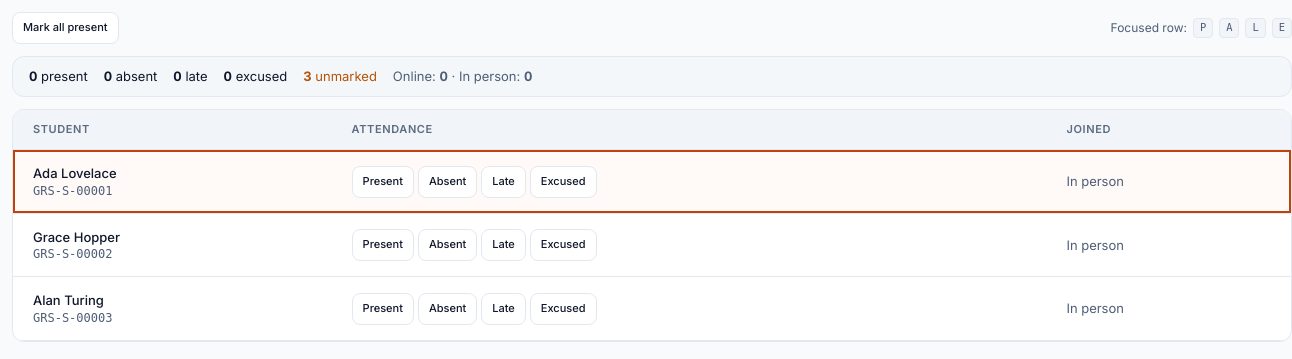
Test: RegisterEditor › clicking a status button also marks the row (the mouse alternative)
The image size is (1292, 359).
Click the radio button labelled "Excused" in the row of "Ada Lovelace": (563, 182) [530,166,596,198]
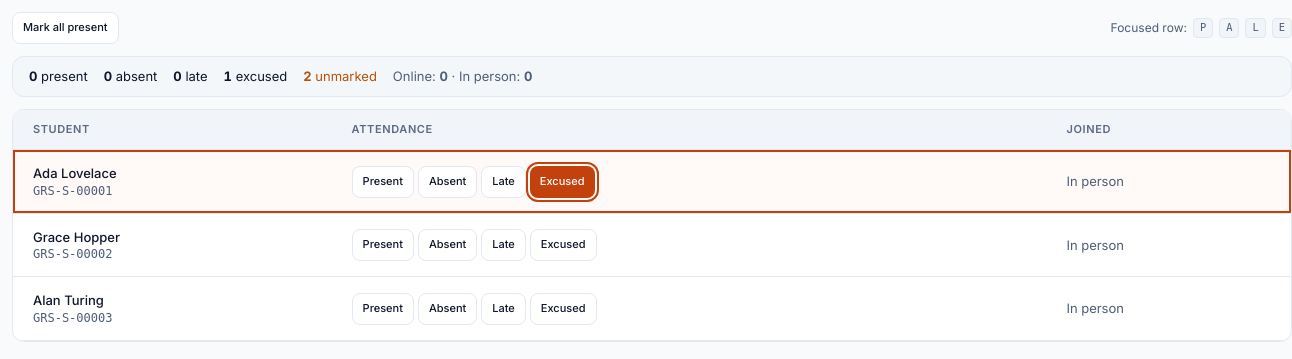
Expected: the row named "Ada Lovelace, Excused" is shown, [13,150,1291,213]
